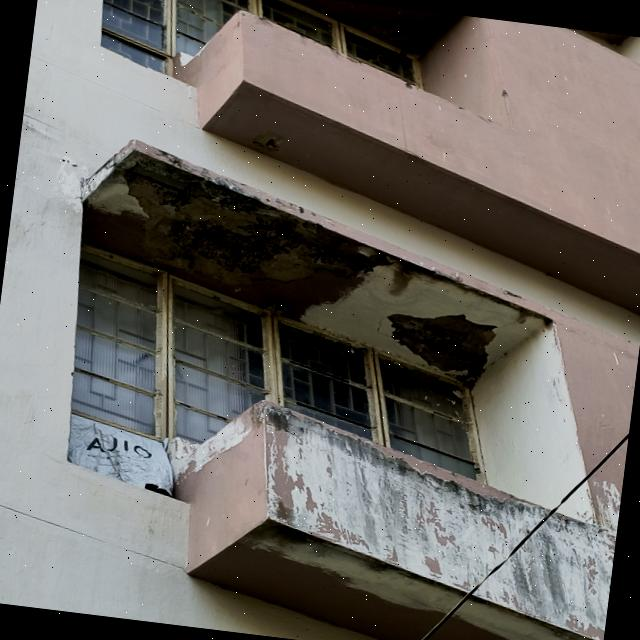Paint Peeling: (253, 404, 547, 590), (474, 511, 615, 640)
Spalling: (121, 155, 398, 317), (387, 313, 495, 380)
pollution -moisture induced blackening: (267, 408, 616, 546)
